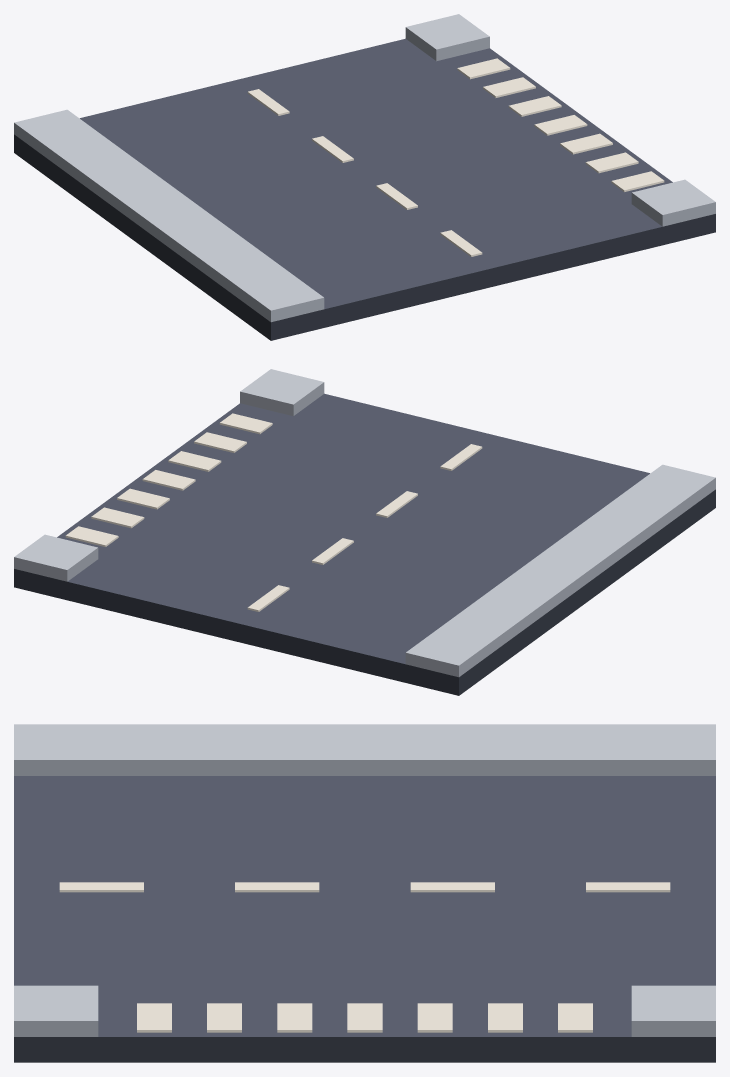
Rendered from road_t.glb.
The picture shows the model from 3 angles, top to bottom: view 1: azimuth 30°, elevation 25°; view 2: azimuth 150°, elevation 25°; view 3: azimuth 270°, elevation 25°; orthographic projection. The views are drawn at different scales.
Parts seen in each view (by area): view 1: road_t; view 2: road_t; view 3: road_t.
Boxes of the visible parts, x1,y1,x2,y2 form: road_t: [14, 14, 715, 340]; road_t: [14, 369, 715, 695]; road_t: [14, 724, 715, 1062].
Size of the model in its own units: 1 by 0.065 by 1.
